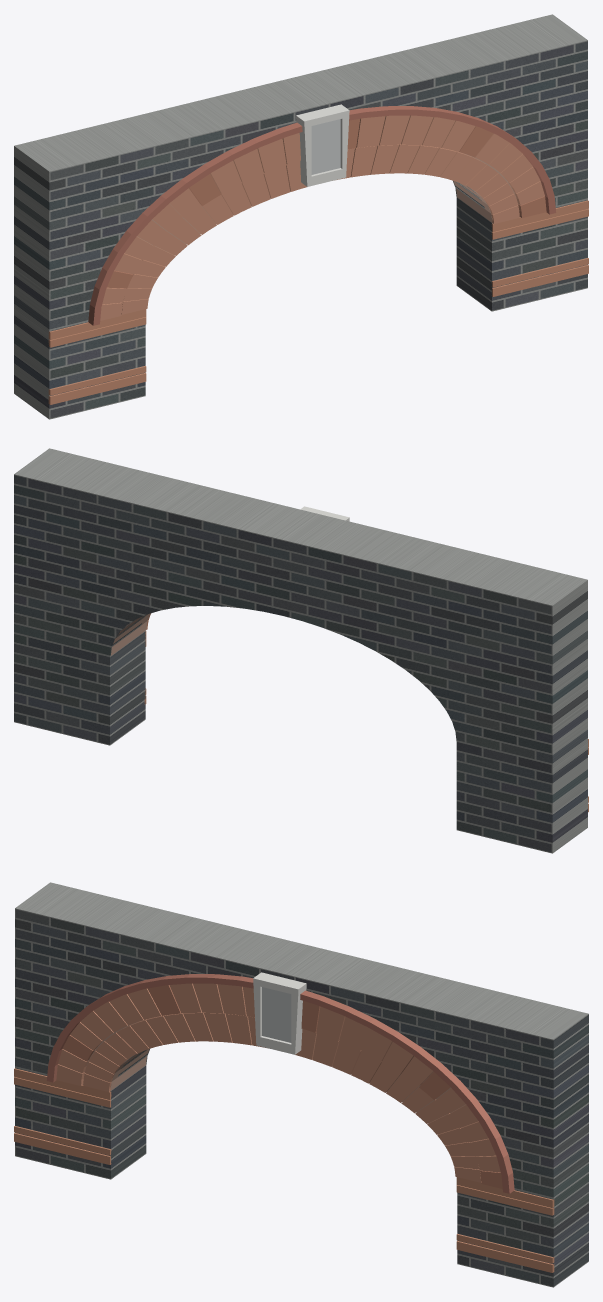
File: fengleli-north-two-segmental-arch-far.glb
3 views of the same model, one above another, from view 1: azimuth 30°, elevation 25°; view 2: azimuth 150°, elevation 25°; view 3: azimuth 330°, elevation 25° (orthographic).
Visible parts, largest first — view 1: 丰乐里北贰支弄红砖券与浅色券心石; view 2: 丰乐里北贰支弄红砖券与浅色券心石; view 3: 丰乐里北贰支弄红砖券与浅色券心石.
Part boxes in pixels (x1,y1,x2,y2): 丰乐里北贰支弄红砖券与浅色券心石: [14, 14, 588, 419]; 丰乐里北贰支弄红砖券与浅色券心石: [14, 448, 588, 853]; 丰乐里北贰支弄红砖券与浅色券心石: [14, 882, 588, 1287].
Bounding box in the file's own units: 4.82 × 2.12 × 0.678.
Materials: 8 (1 with a texture image).
